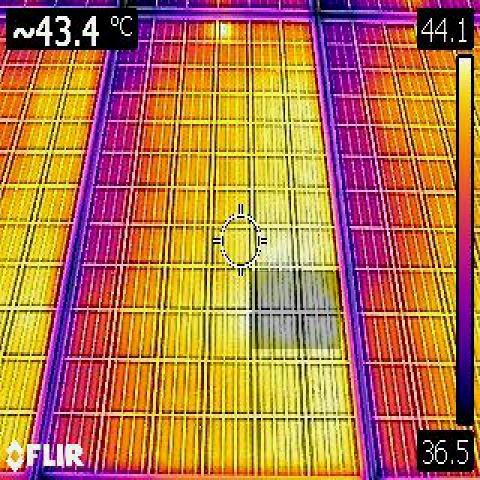fault: (252, 271, 341, 349), (208, 21, 232, 40)
